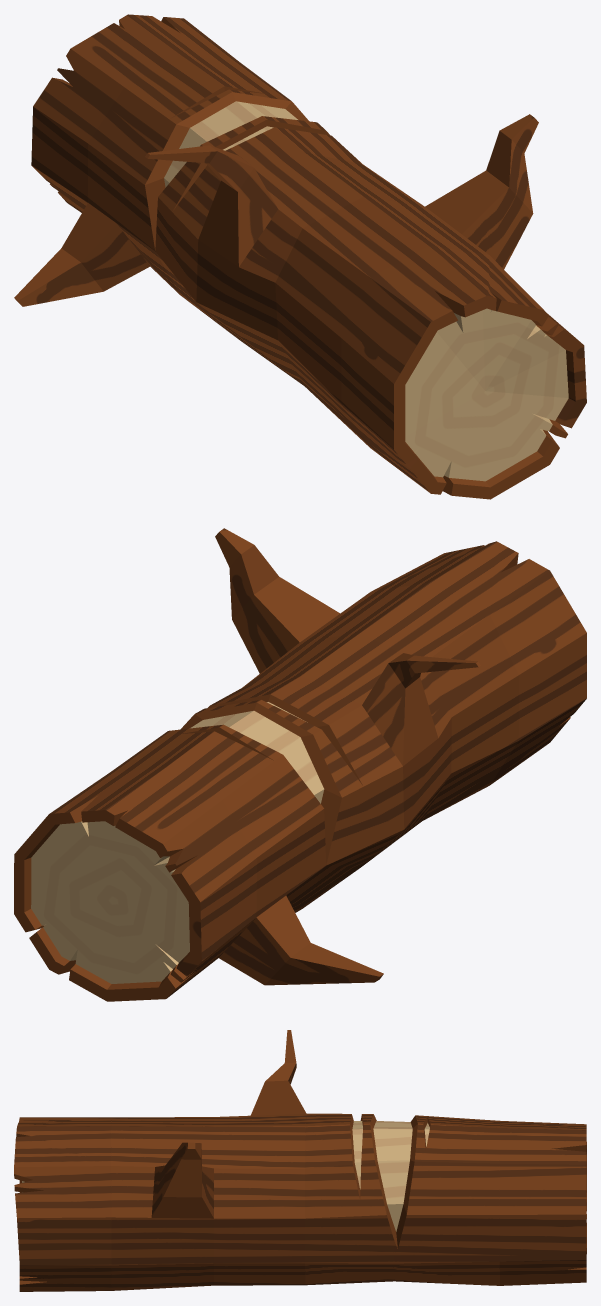
File: log3.fbx
3 views of the same model, one above another, from view 1: azimuth 30°, elevation 25°; view 2: azimuth 150°, elevation 25°; view 3: azimuth 270°, elevation 25° (orthographic). The views are drawn at different scales.
Parts seen in each view (by area): view 1: Cylinder.004; view 2: Cylinder.004; view 3: Cylinder.004.
Boxes of the visible parts, x1=… form: Cylinder.004: x1=14, y1=14, x2=586, y2=499; Cylinder.004: x1=14, y1=528, x2=586, y2=1001; Cylinder.004: x1=14, y1=1030, x2=586, y2=1291.
Bounding box in the file's own units: 338 × 248 × 644.
